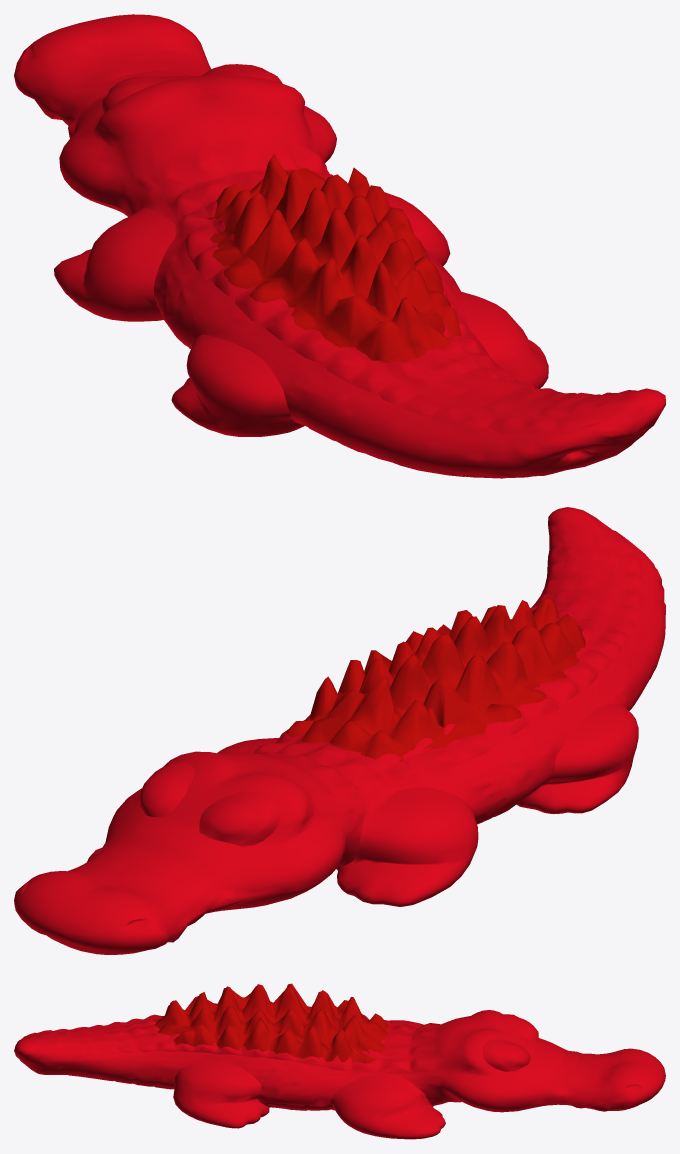
File: coccodrilloRosso.fbx
3 renders of one model, top to bottom at view 1: azimuth 30°, elevation 25°; view 2: azimuth 150°, elevation 25°; view 3: azimuth 270°, elevation 25°, orthographic. The views are drawn at different scales.
Visible parts, largest first — view 1: coccodrillo, spuntoni; view 2: coccodrillo, spuntoni; view 3: coccodrillo, spuntoni.
Boxes of the visible parts, x1,y1,x2,y2 form: coccodrillo: (14, 14, 665, 478); spuntoni: (181, 154, 461, 362); coccodrillo: (14, 507, 665, 954); spuntoni: (286, 597, 585, 780); coccodrillo: (14, 1010, 665, 1139); spuntoni: (152, 983, 388, 1063).
Bounding box in the file's own units: 431 × 194 × 1165.
